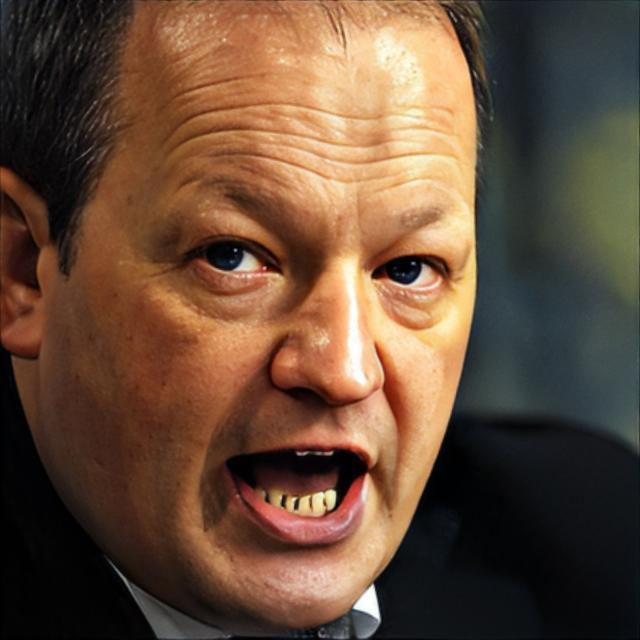anger: (56, 60, 480, 622)
